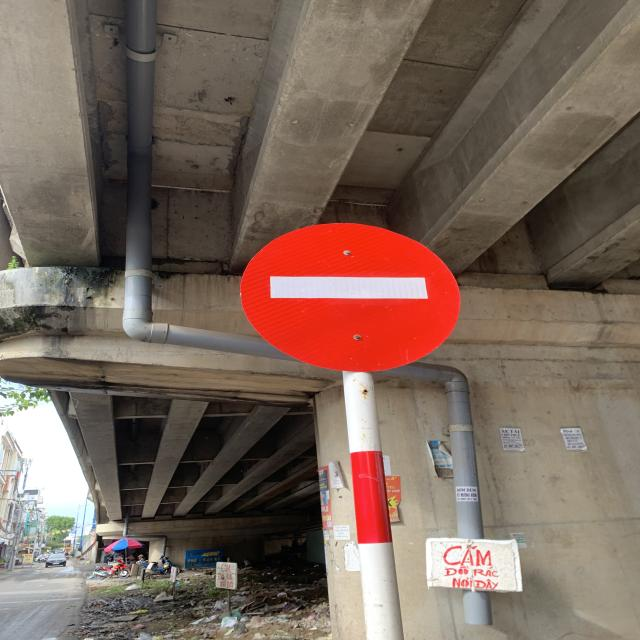Cam_Di_Nguoc_Chieu: (242, 224, 460, 375)
